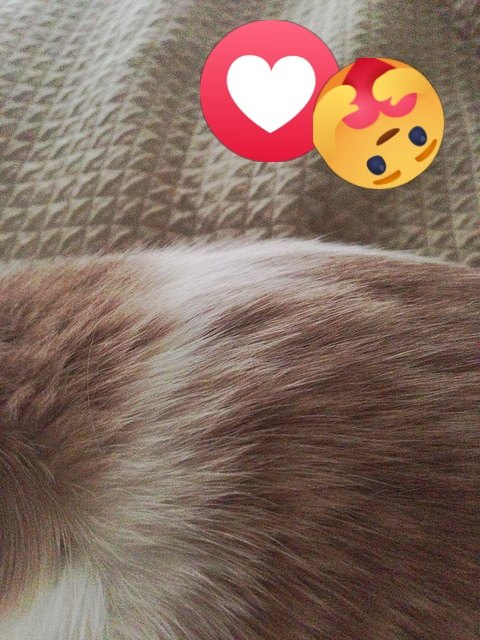care: (313, 58, 444, 189)
love: (200, 20, 342, 162)
